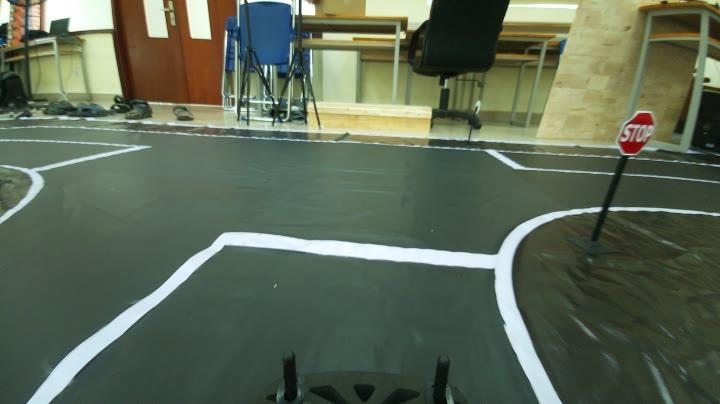stop: (616, 105, 661, 169)
